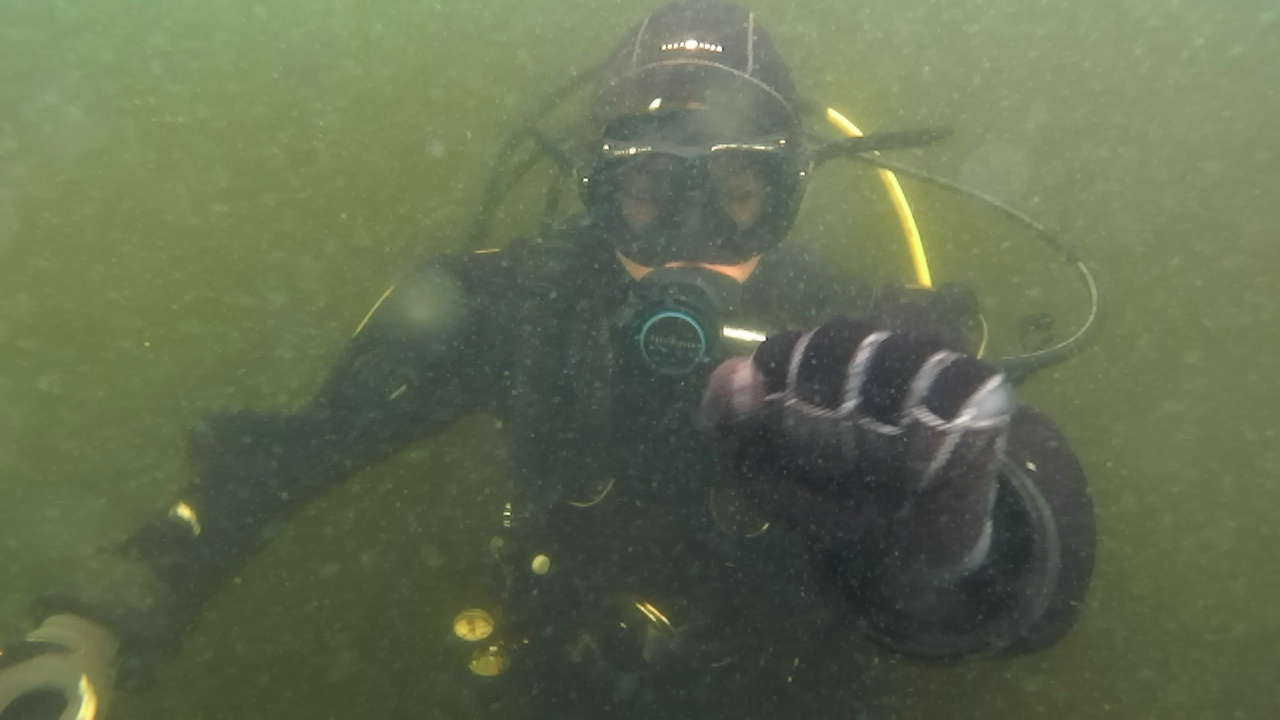Diver: (0, 2, 1098, 718)
Hand: (686, 316, 1042, 604)
Head: (558, 0, 822, 332)
